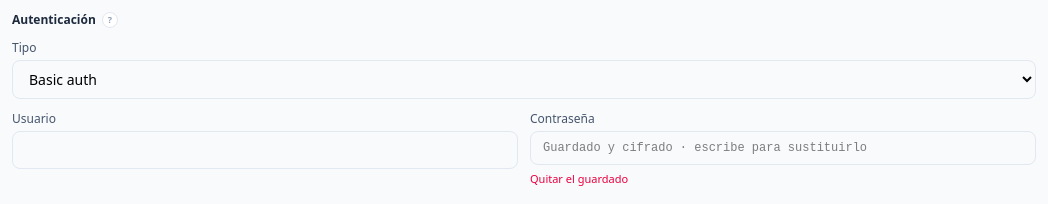
Test: un secreto guardado › solo «Quitar el guardado» lo borra
Click the button "Quitar el guardado" at (579, 179), box x1=530 y1=171 x2=628 y2=188
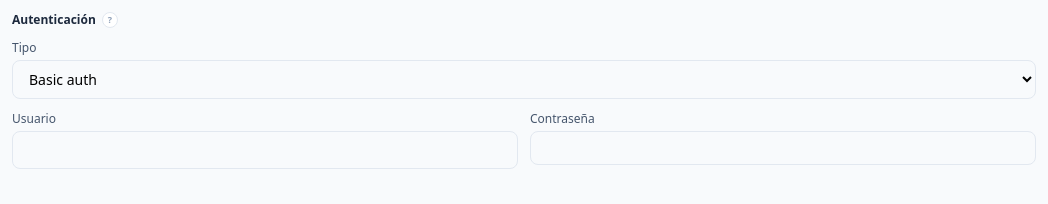
expect the button "Quitar el guardado" is gone: met
